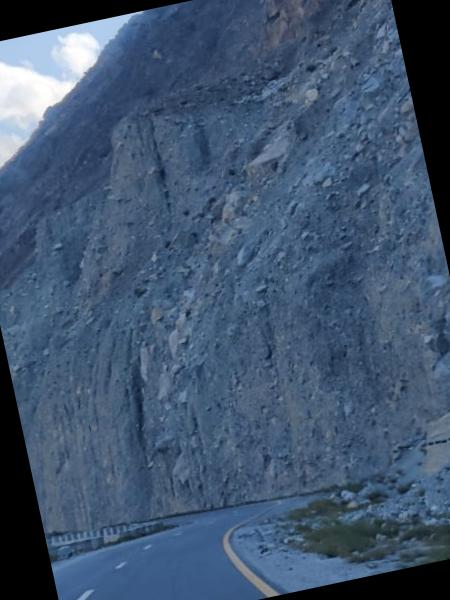left_turn: (73, 498, 267, 600)
